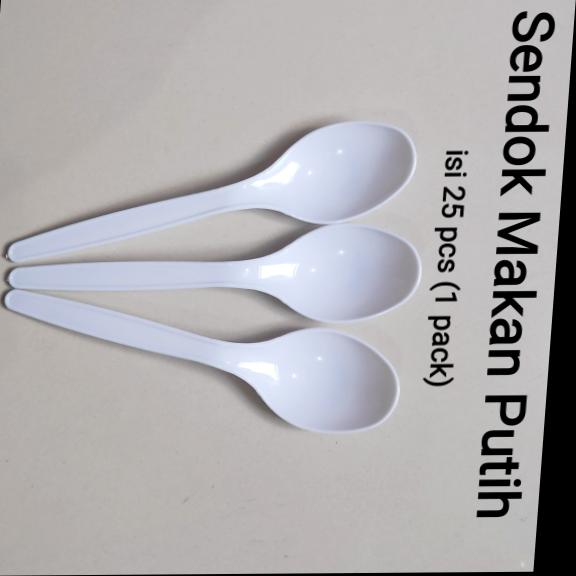Plastik: (6, 122, 414, 262), (4, 290, 397, 432), (7, 224, 420, 322)
